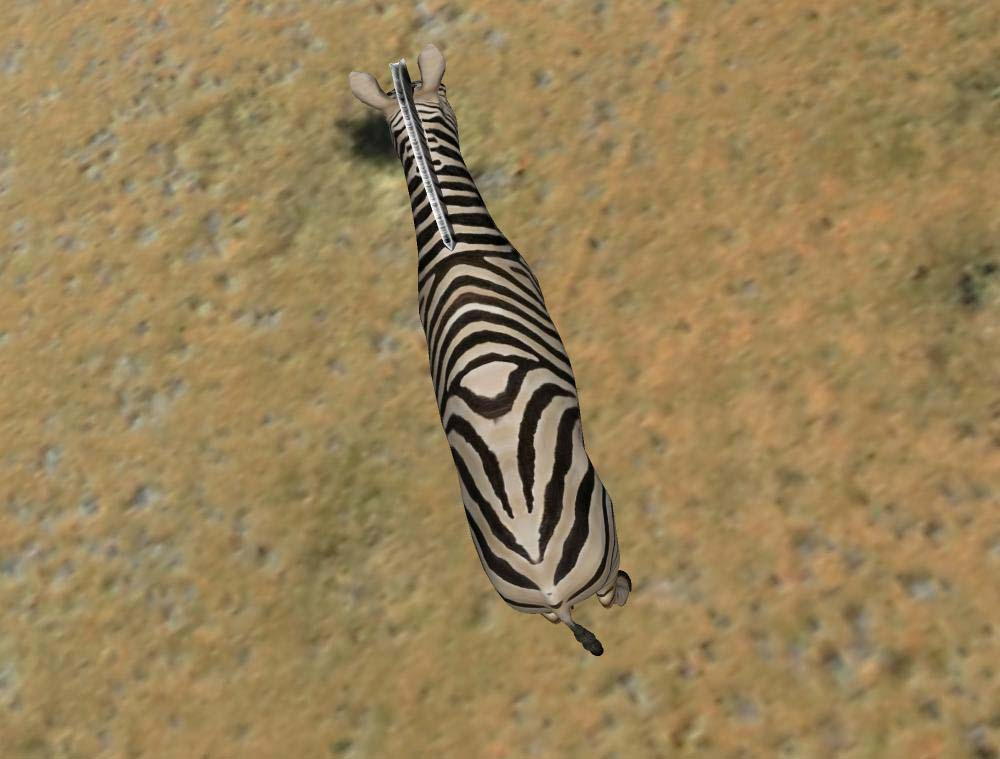zebra: (339, 43, 636, 662)
